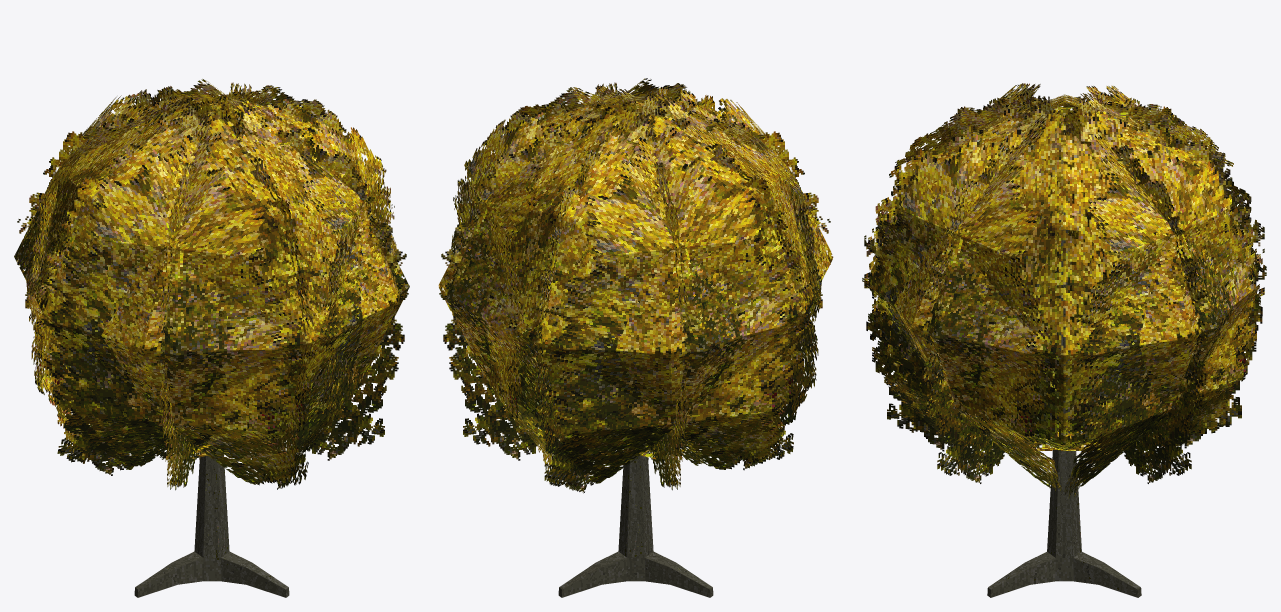
Rendered from tree06_fall.glb.
3 views of the same model, side by side, from view 1: azimuth 30°, elevation 25°; view 2: azimuth 150°, elevation 25°; view 3: azimuth 270°, elevation 25° (orthographic).
Parts seen in each view (by area): view 1: tree06; view 2: tree06; view 3: tree06.
Part boxes in pixels (x1,y1,x2,y2): tree06: (14, 79, 409, 597); tree06: (438, 78, 833, 597); tree06: (862, 83, 1266, 597).
Bounding box in the file's own units: 6.32 × 8.26 × 6.32.
1 material, 1 textured.
